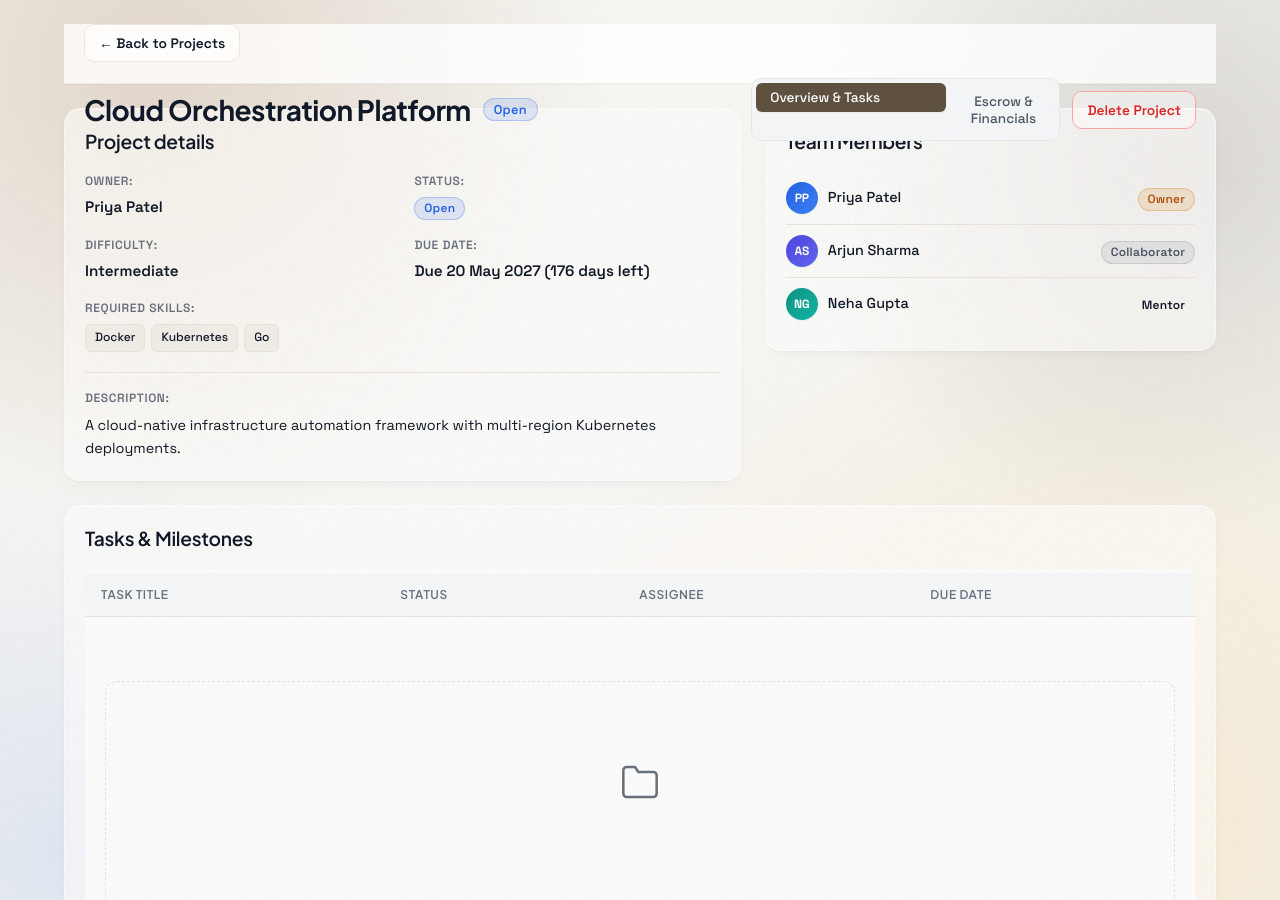
Test case: AdminProjectDetails: Basic and Clean UI Enhancement › Delete Project button opens the DeleteProjectDialog and retains existing behavior
This screenshot has width=1280, height=900.
Click Delete Project
Click the button with test id "admin-delete-project-btn" at (1134, 110), box [1072,90,1196,128]
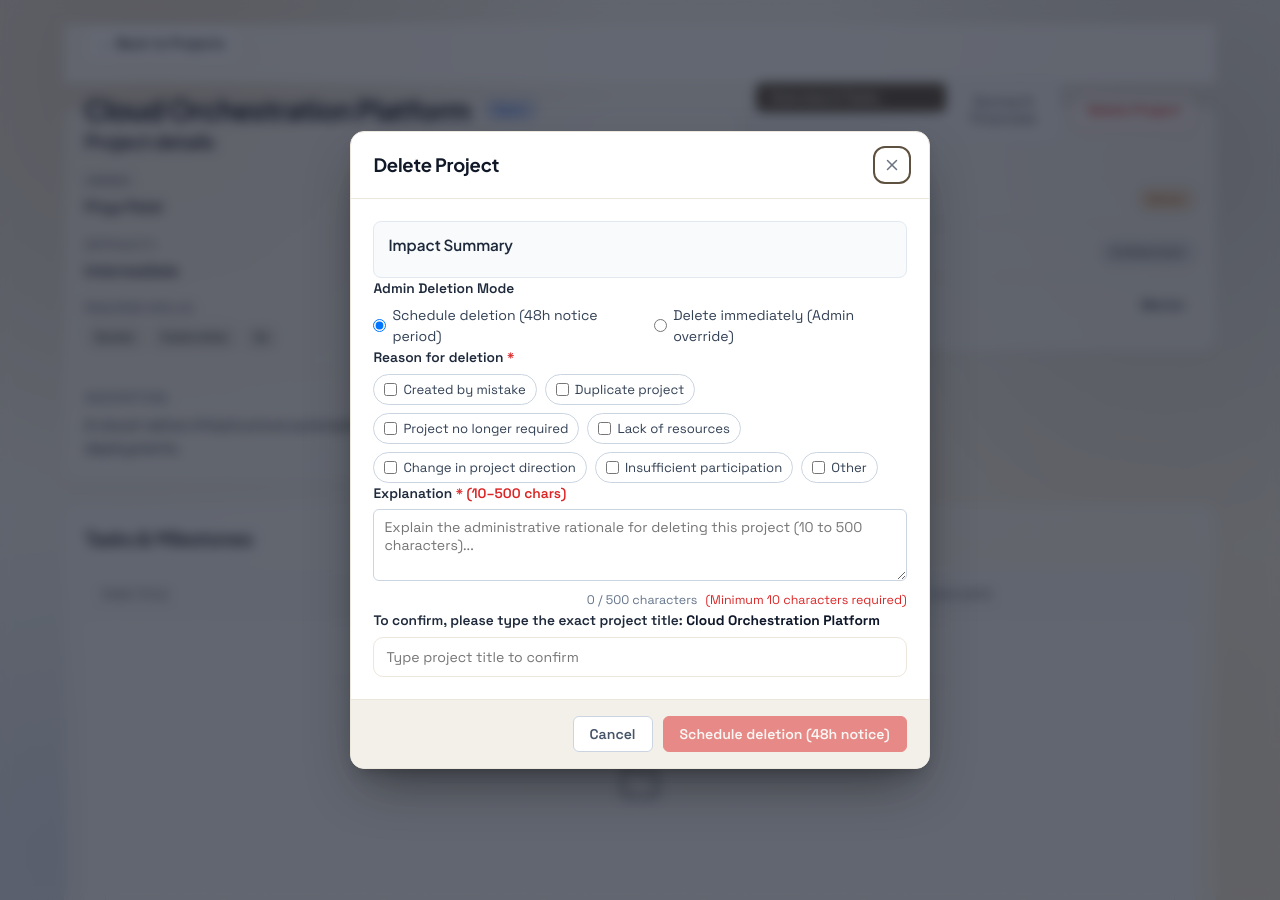
Result: the dialog with test id "delete-project-modal" is shown at [350,131,930,769]
Result: the button with test id "confirm-delete-project-btn" is shown at [662,716,907,752]
